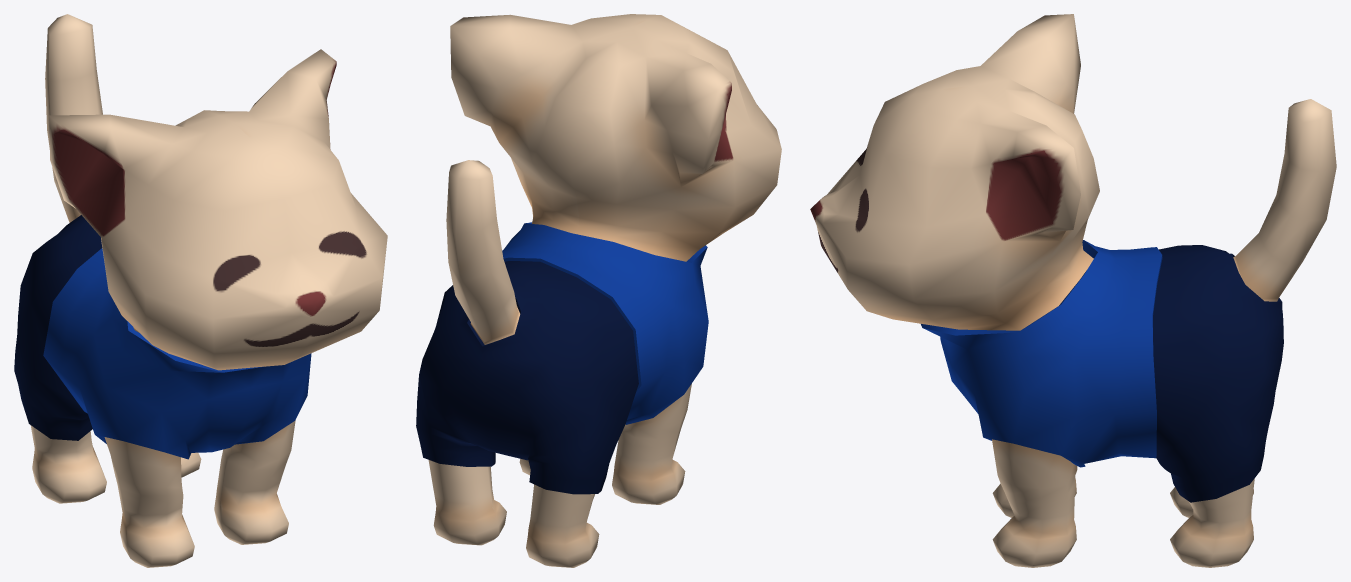
The model's file is Athlete Cat01.fbx.
The picture shows the model from 3 angles, left to right: view 1: azimuth 30°, elevation 25°; view 2: azimuth 150°, elevation 25°; view 3: azimuth 270°, elevation 25°; orthographic projection. The views are drawn at different scales.
Parts seen in each view (by area): view 1: Cat_Base002, Athlete_Cat_Jersey, Athlete_Cat_Jersey_Shorts; view 2: Cat_Base002, Athlete_Cat_Jersey_Shorts, Athlete_Cat_Jersey; view 3: Cat_Base002, Athlete_Cat_Jersey, Athlete_Cat_Jersey_Shorts.
Part boxes in pixels (bbox=[...]): Cat_Base002: bbox=[30, 14, 387, 567]; Athlete_Cat_Jersey: bbox=[43, 248, 311, 459]; Athlete_Cat_Jersey_Shorts: bbox=[14, 215, 102, 440]; Cat_Base002: bbox=[428, 14, 781, 567]; Athlete_Cat_Jersey_Shorts: bbox=[416, 261, 638, 494]; Athlete_Cat_Jersey: bbox=[502, 222, 708, 424]; Cat_Base002: bbox=[810, 14, 1336, 567]; Athlete_Cat_Jersey: bbox=[921, 240, 1162, 467]; Athlete_Cat_Jersey_Shorts: bbox=[1153, 245, 1283, 502].
Size of the model in its own units: 1.75 by 2.83 by 2.68.
3 materials, 1 textured.
